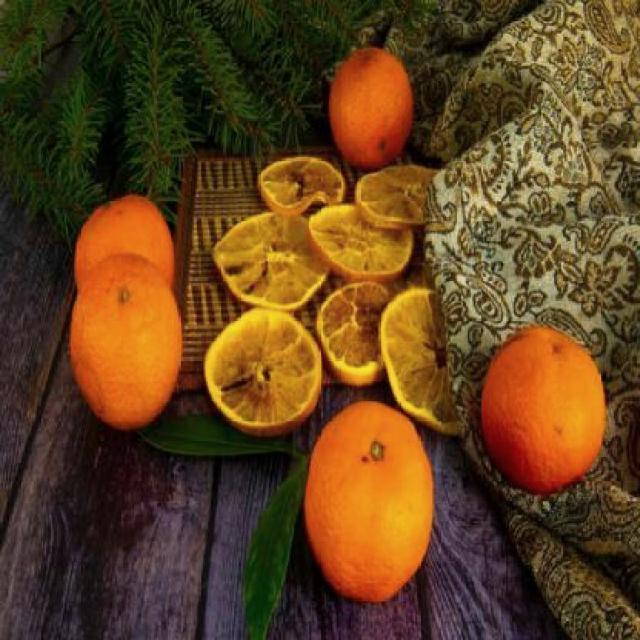Jeruk Sudah Matang: (303, 393, 434, 609), (478, 323, 608, 488), (70, 252, 181, 428), (78, 192, 175, 318), (330, 49, 413, 171)
